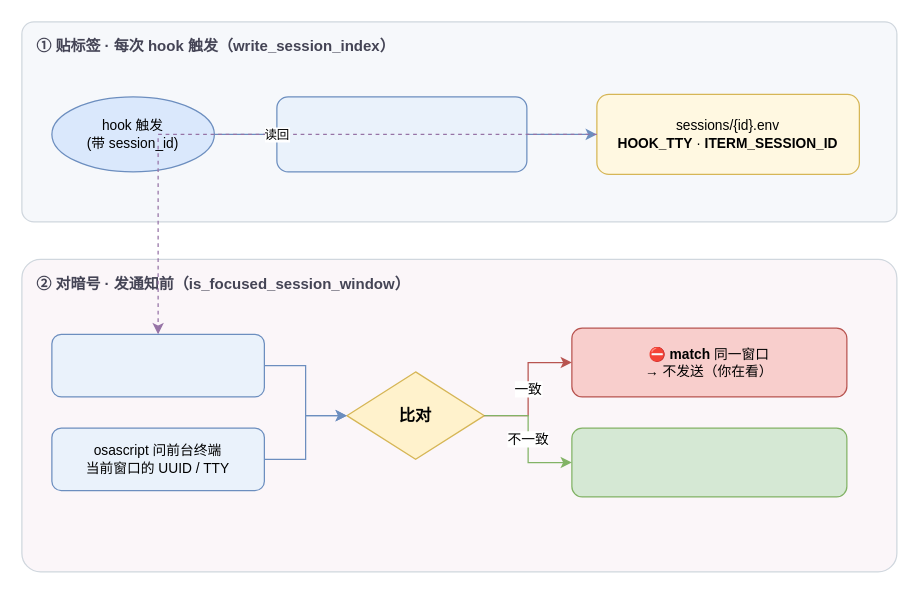
This 919x594 diagram has some shape labels left out. The box of each missing label's shape, as (x1, y1, x2, y2) in pixels:
✅ mismatch 切到别的窗口 → 发送（你没在看）: (571, 427, 847, 497)
沿父进程链 ppid 找 tty + 读 ITERM_SESSION_ID (UUID): (276, 96, 527, 172)
读 .env 拿发起窗口标识: (51, 333, 264, 397)
